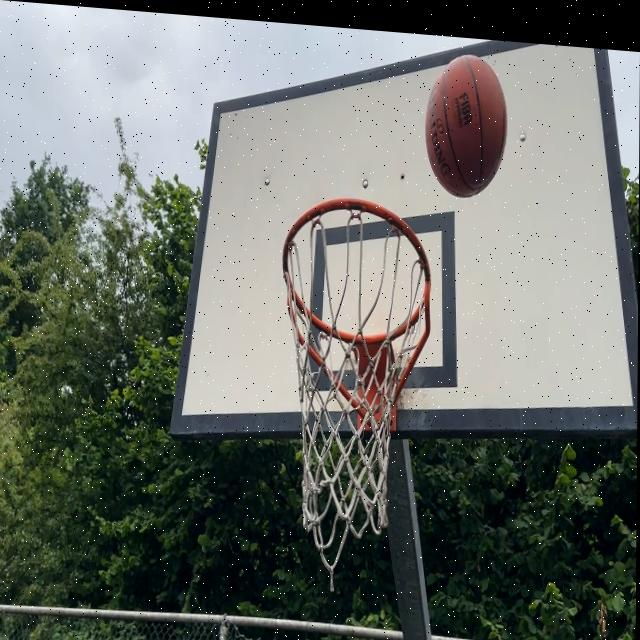Basketball: (424, 50, 508, 202)
